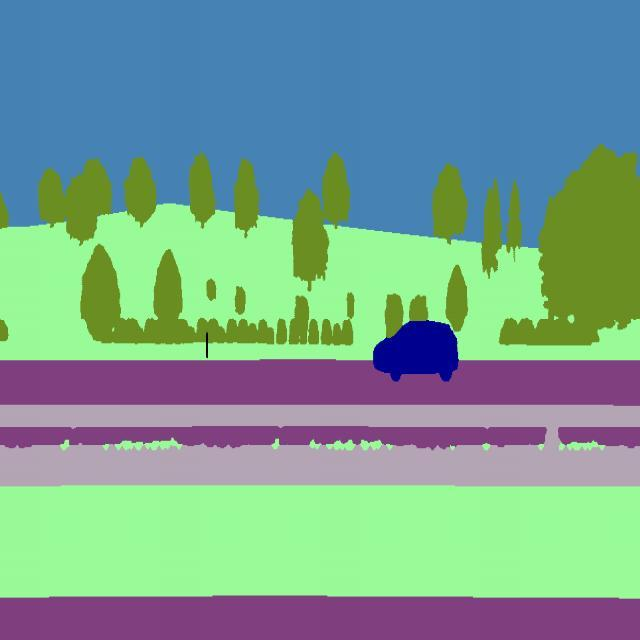safe: (371, 318, 464, 384)
